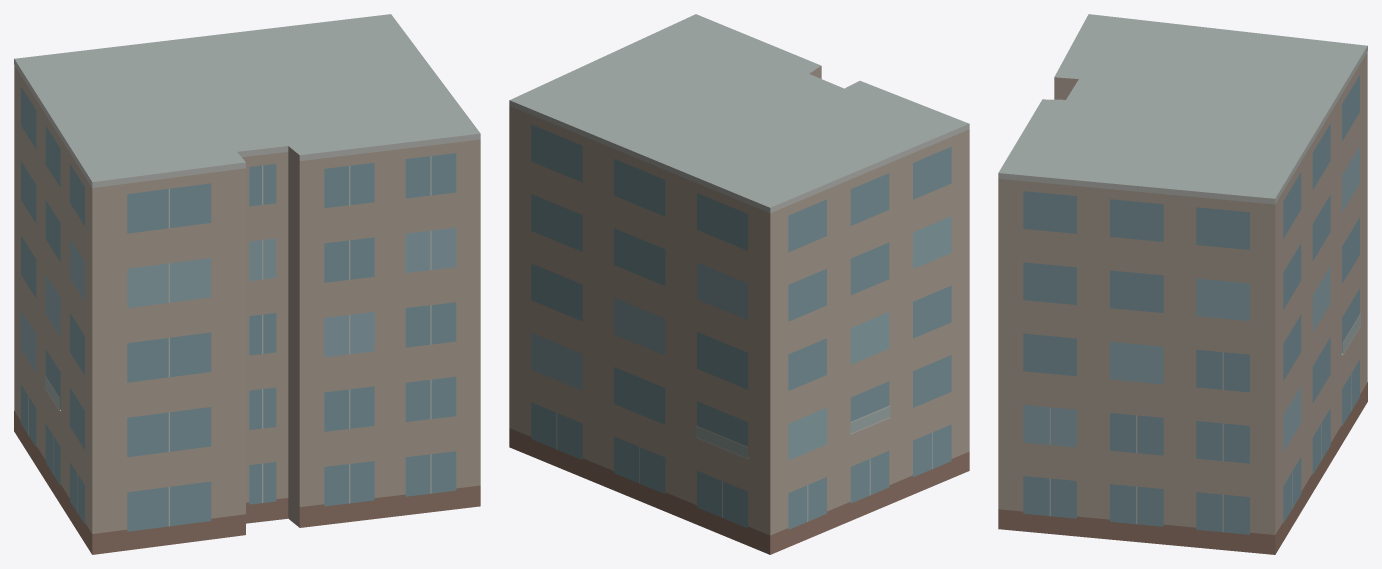
File: survey-upis-32593471.glb
3 views of the same model, side by side, from view 1: azimuth 30°, elevation 25°; view 2: azimuth 150°, elevation 25°; view 3: azimuth 270°, elevation 25° (orthographic). The views are drawn at different scales.
Parts seen in each view (by area): view 1: survey-upis-32593471.tmp; view 2: survey-upis-32593471.tmp; view 3: survey-upis-32593471.tmp.
Part boxes in pixels (bbox=[...]): survey-upis-32593471.tmp: bbox=[14, 14, 480, 554]; survey-upis-32593471.tmp: bbox=[509, 14, 969, 554]; survey-upis-32593471.tmp: bbox=[998, 14, 1367, 554].
Bounding box in the file's own units: 17.15 × 15.4 × 14.49.
